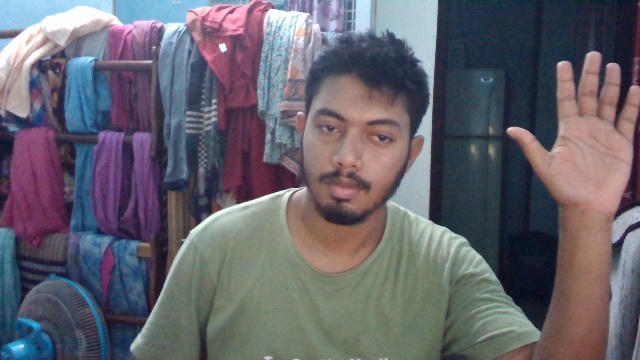hello: (499, 48, 640, 225)
